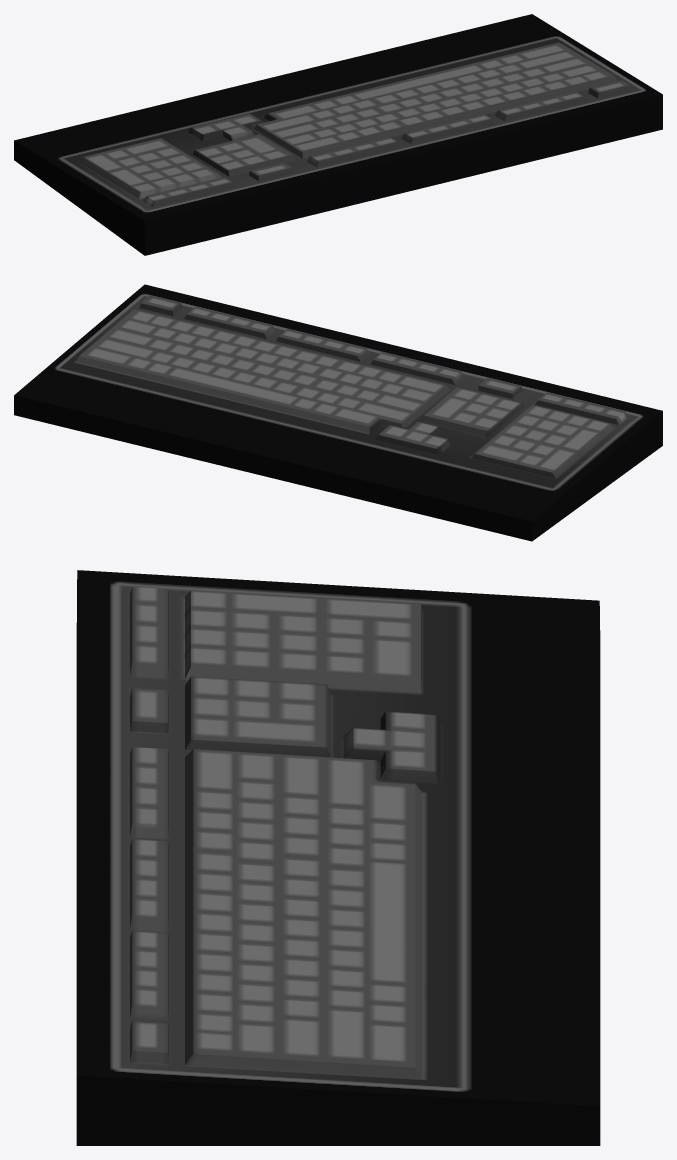
Rendered from SM_Keyboard.fbx.
3 renders of one model, top to bottom at view 1: azimuth 30°, elevation 25°; view 2: azimuth 150°, elevation 25°; view 3: azimuth 270°, elevation 25°, orthographic. The views are drawn at different scales.
Parts seen in each view (by area): view 1: Keyboard; view 2: Keyboard; view 3: Keyboard.
Boxes of the visible parts, x1,y1,x2,y2 form: Keyboard: (14, 14, 662, 255); Keyboard: (14, 284, 662, 541); Keyboard: (76, 570, 600, 1145).
Bounding box in the file's own units: 57.68 × 4.09 × 25.24.
Materials: 1 (1 with a texture image).
